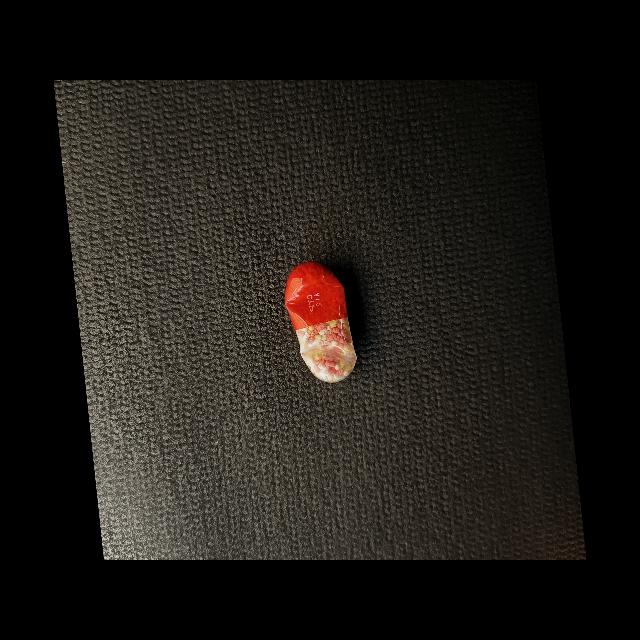Defective Capsule: (285, 262, 357, 383)
